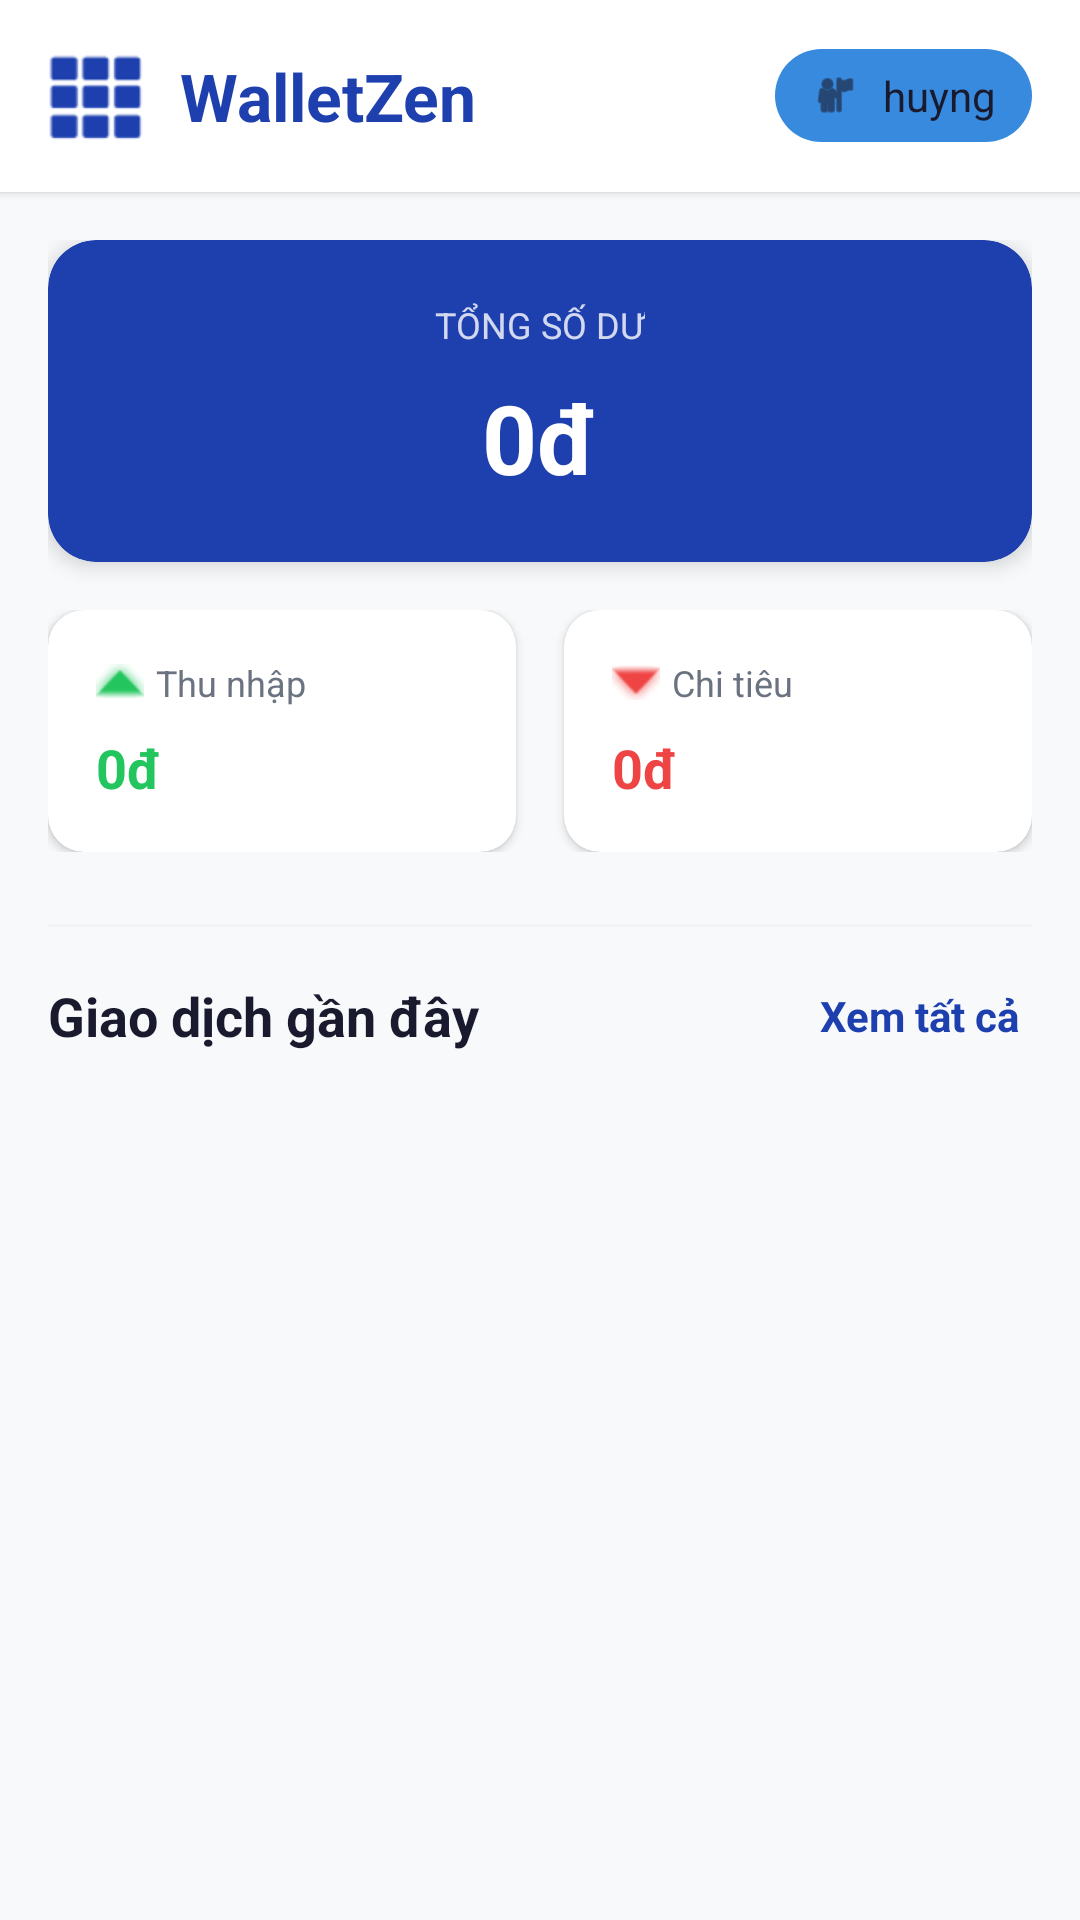

Screen size 1080x1920. Icon name, then its center in pixels as (x=x, y=y):
arrow down float: (x=636, y=682)
arrow up float: (x=120, y=682)
dialer: (x=95, y=97)
myplaces: (x=836, y=95)
